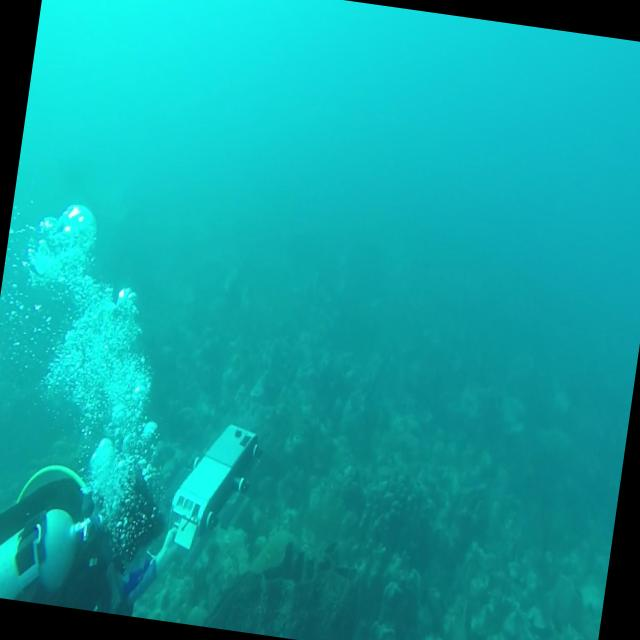human: (0, 388, 265, 629)
